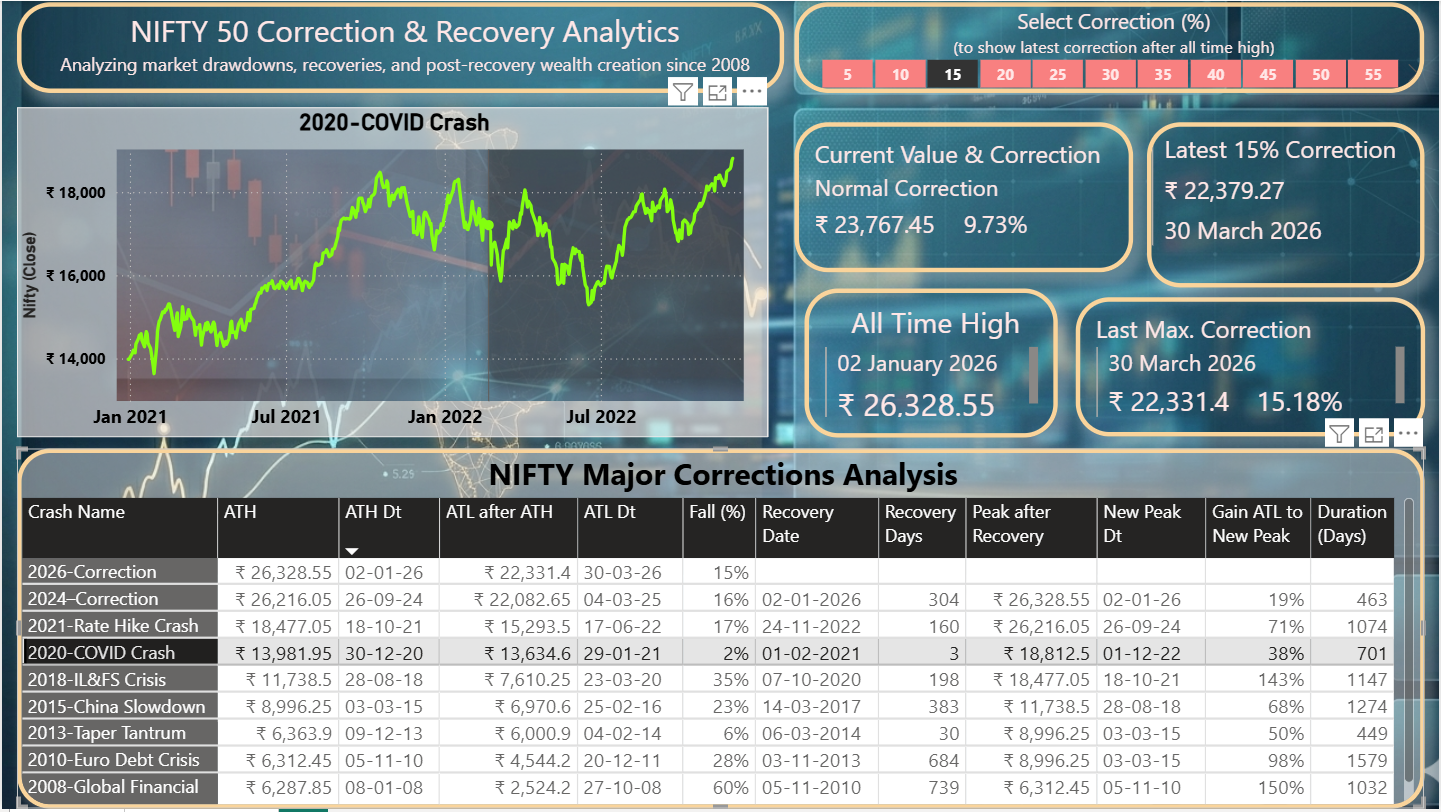

Layout of this report page (visuals, bound fields, positions):
{"tool":"powerbi","page":{"name":"NIFTY_50 ","canvas":[1280,720],"ordinal":0},"visuals":[{"type":"multiRowCard","title":"All Time High","fields":{"Values":["Nifty.All Time High","Nifty.All Time High Dt"]},"box":[715.2,255.5,225.8,132.5],"z":0},{"type":"multiRowCard","title":"Last Max. Correction","fields":{"Values":["Nifty.Correction","Nifty.Correction Dt","Nifty.correction (%)"]},"box":[955.8,263.6,310.9,124.4],"z":1000},{"type":"multiRowCard","title":"Current Value & Correction","fields":{"Values":["Nifty.Current Value","Nifty.Current Correction","Nifty.Play Book"]},"box":[705.7,108.2,301.5,133.8],"z":2000},{"type":"slicer","title":"Select Correction (%)","fields":{"Values":["Fall From ATH.Fall Percentage"]},"box":[705.8,1.2,561,80.8],"z":3000},{"type":"multiRowCard","fields":{"Values":["Fall From ATH.Header","Nifty.Fall Value","Nifty.Date of Fall"]},"box":[1019.4,108.2,247.4,147.4],"z":4000},{"type":"pivotTable","title":"NIFTY Major Corrections Analysis","fields":{"Rows":["Crash History.Crash Name"],"Values":["Nifty.ATH","Nifty.ATH Dt","Nifty.ATL after ATH","Nifty.ATL Dt","Nifty.Max fall","Nifty.Recovery Date","Nifty.Recovery Days","Nifty.Peak after Recovery","Nifty.New Peak Dt","Nifty.Gain ATL to New Peak","Nifty.Duration"]},"box":[13.5,398.8,1253.2,320.4],"z":5000},{"type":"card","title":"NIFTY 50 Correction & Recovery Analytics","fields":{"Values":["Crash History.Title"]},"box":[13.4,1.3,683.2,80.7],"z":6000},{"type":"lineChart","title":"Nifty (Close) by Date","fields":{"Y":["Sum(Nifty.Close)"],"Category":["Nifty.Date"]},"box":[13.5,94.6,669.2,293.4],"z":7000}]}

Visuals, with their boxes in screenshot pixels (x1, y1, x2, y2), scaled from the page's 1280x720 canvas onto the 1441x812 screenshot:
"All Time High" multiRowCard: Rect(805, 288, 1059, 438)
"Last Max. Correction" multiRowCard: Rect(1076, 297, 1426, 438)
"Current Value & Correction" multiRowCard: Rect(794, 122, 1134, 273)
"Select Correction (%)" slicer: Rect(795, 1, 1426, 92)
multiRowCard - Fall From ATH.Header x Nifty.Fall Value: Rect(1148, 122, 1426, 288)
"NIFTY Major Corrections Analysis" pivotTable: Rect(15, 450, 1426, 811)
"NIFTY 50 Correction & Recovery Analytics" card: Rect(15, 1, 784, 92)
"Nifty (Close) by Date" lineChart: Rect(15, 107, 769, 438)
